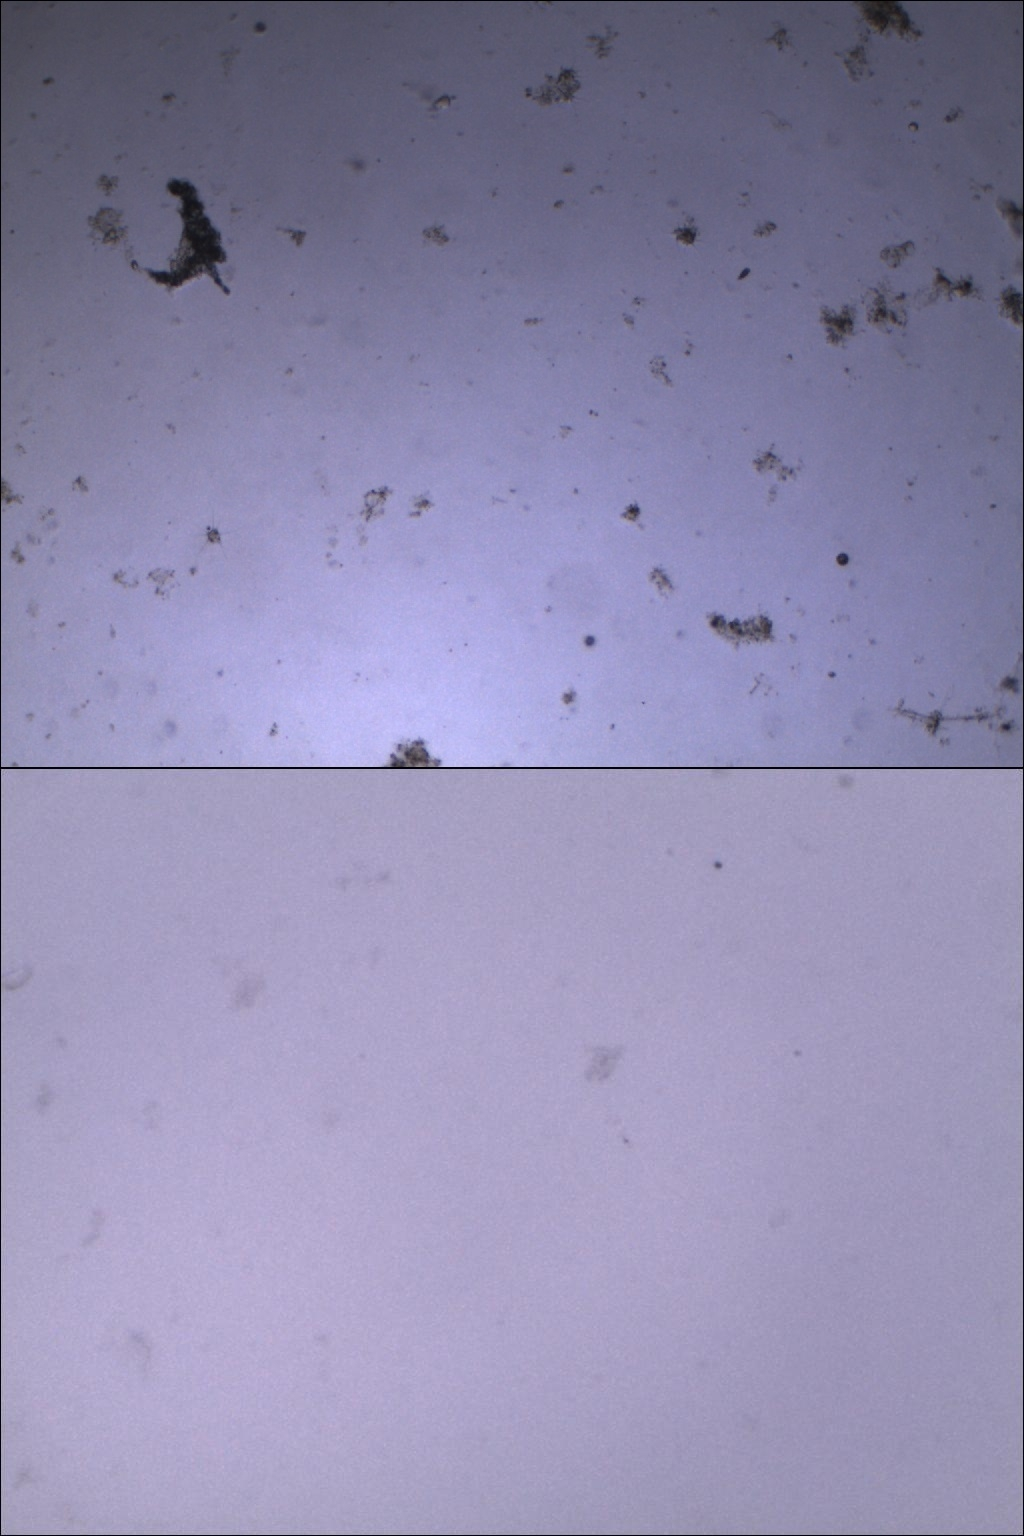N.Fowleri Amoeba: (565, 1018, 643, 1105)
Proteus Amoeba: (138, 170, 238, 311)
